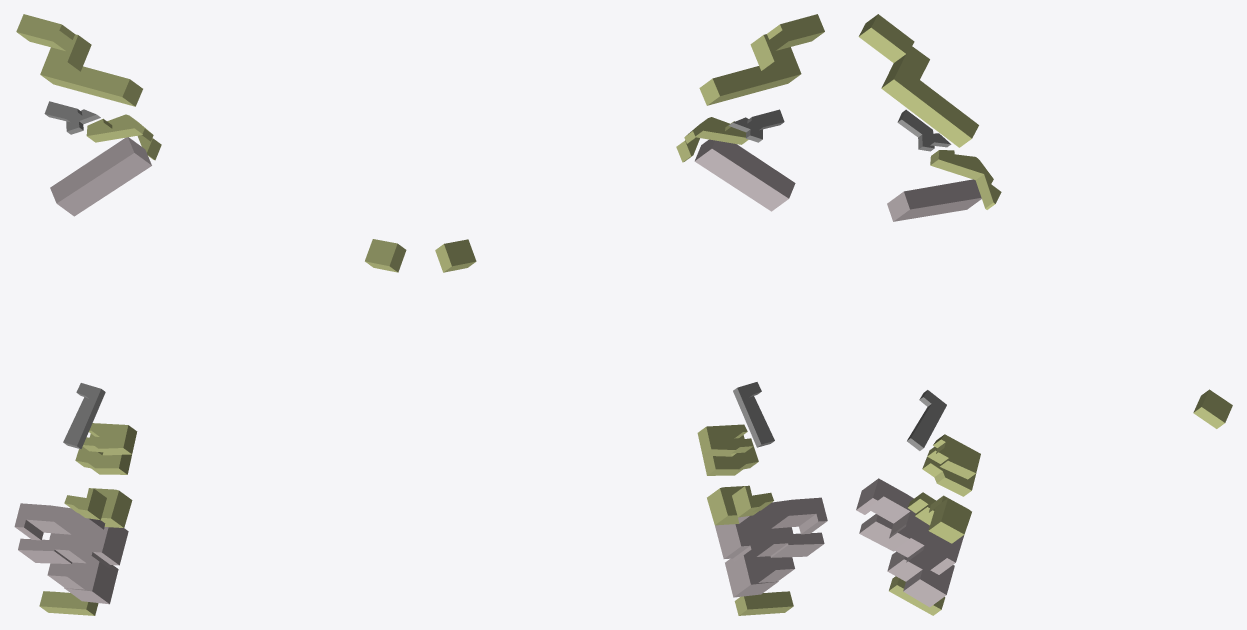
3 renders of one model, left to right at view 1: azimuth 30°, elevation 25°; view 2: azimuth 150°, elevation 25°; view 3: azimuth 330°, elevation 25°, orthographic. The views are drawn at different scales.
Visible parts, largest first — view 1: 0_1_0_0_2_1_0; view 2: 0_1_0_0_2_1_0; view 3: 0_1_0_0_2_1_0.
Boxes of the visible parts, x1,y1,x2,y2 form: 0_1_0_0_2_1_0: (14,14,406,615); 0_1_0_0_2_1_0: (435,14,827,615); 0_1_0_0_2_1_0: (856,14,1232,615).
Bounding box in the file's own units: 149 × 229 × 13.2.
